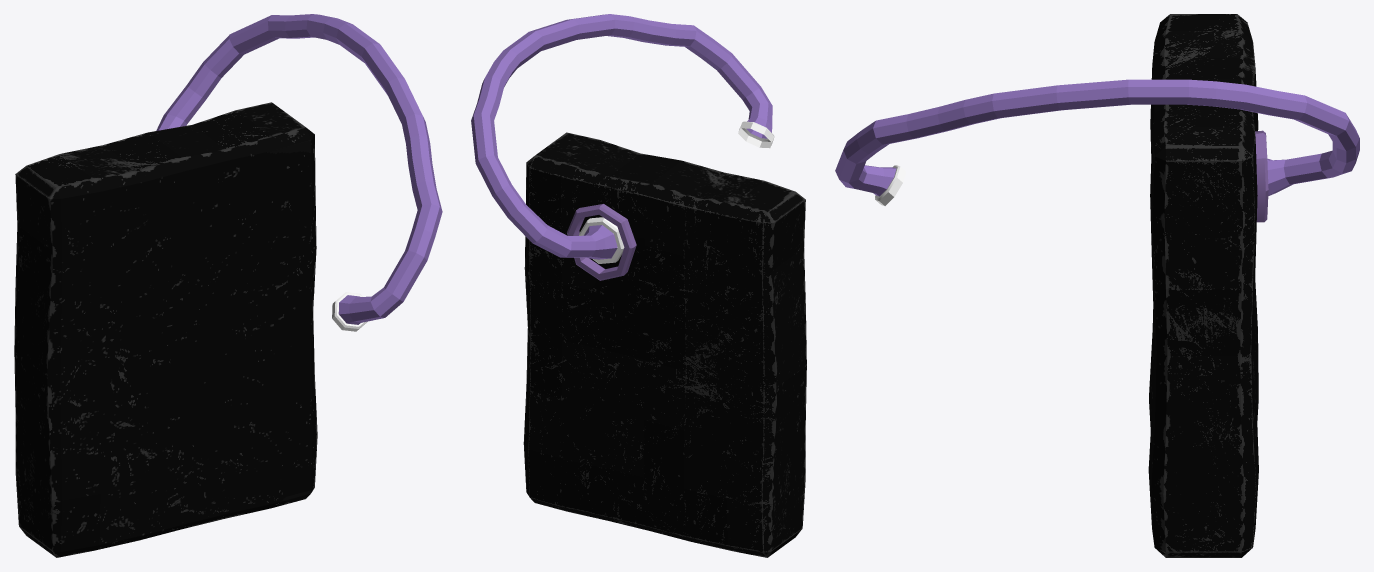
The model's file is backpack.fbx.
The picture shows the model from 3 angles, left to right: view 1: azimuth 30°, elevation 25°; view 2: azimuth 150°, elevation 25°; view 3: azimuth 270°, elevation 25°; orthographic projection. The views are drawn at different scales.
Visible parts, largest first — view 1: backpack; view 2: backpack; view 3: backpack.
Boxes of the visible parts, left/top/right/bottom form: backpack: left=14, top=14, right=442, bottom=557; backpack: left=471, top=14, right=806, bottom=557; backpack: left=835, top=14, right=1359, bottom=557.
Size of the model in its own units: 66 by 90.12 by 84.82.
Materials: 1 (1 with a texture image).
